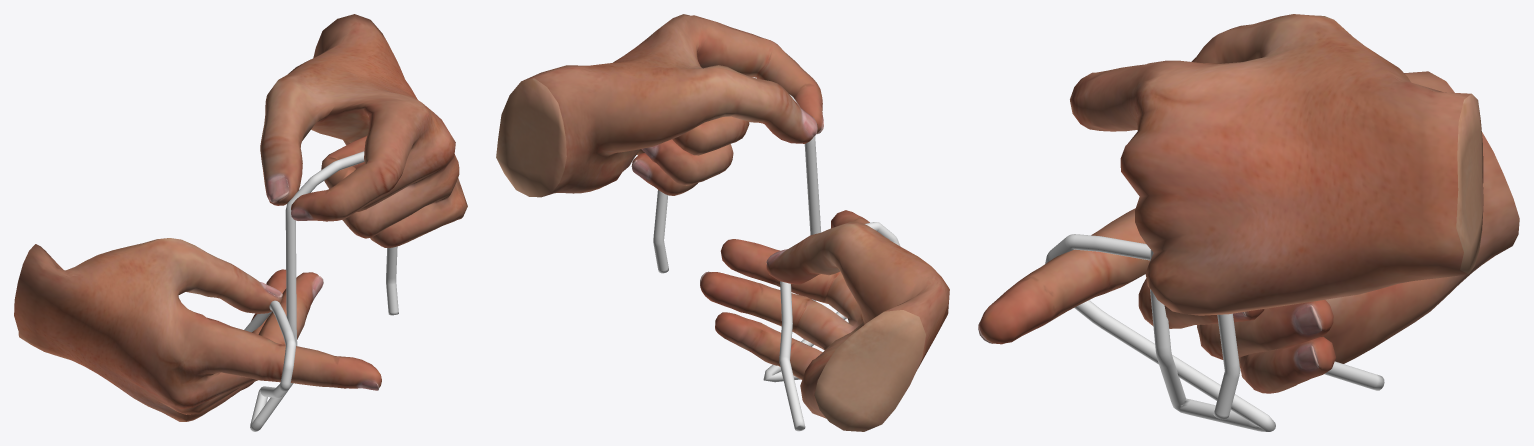
Rendered from zfk_part1_assi_cross.fbx.
3 views of the same model, side by side, from view 1: azimuth 30°, elevation 25°; view 2: azimuth 150°, elevation 25°; view 3: azimuth 270°, elevation 25° (orthographic). The views are drawn at different scales.
Visible parts, largest first — view 1: Hand_R, Hand_L, faden_L, faden_R; view 2: Hand_L, Hand_R, faden_R, faden_L; view 3: Hand_L, Hand_R, faden_R, faden_L.
Part boxes in pixels (bbox=[...]): Hand_R: bbox=[14, 238, 381, 421]; Hand_L: bbox=[260, 14, 467, 247]; faden_L: bbox=[250, 151, 398, 431]; faden_R: bbox=[244, 300, 296, 408]; Hand_L: bbox=[496, 14, 823, 197]; Hand_R: bbox=[700, 210, 949, 431]; faden_R: bbox=[763, 222, 899, 431]; faden_L: bbox=[653, 94, 821, 301]; Hand_L: bbox=[1070, 14, 1483, 315]; Hand_R: bbox=[978, 71, 1519, 393]; faden_R: bbox=[1045, 234, 1384, 431]; faden_L: bbox=[1150, 250, 1240, 422].
Bounding box in the file's own units: 26.07 × 19.37 × 20.82.
